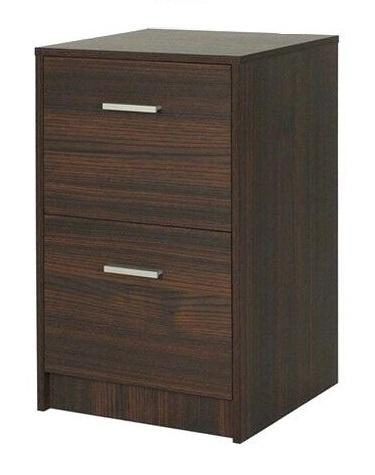cabinet_door: (46, 223, 232, 397), (47, 63, 233, 229)
handle: (97, 256, 166, 288), (97, 94, 163, 122)
